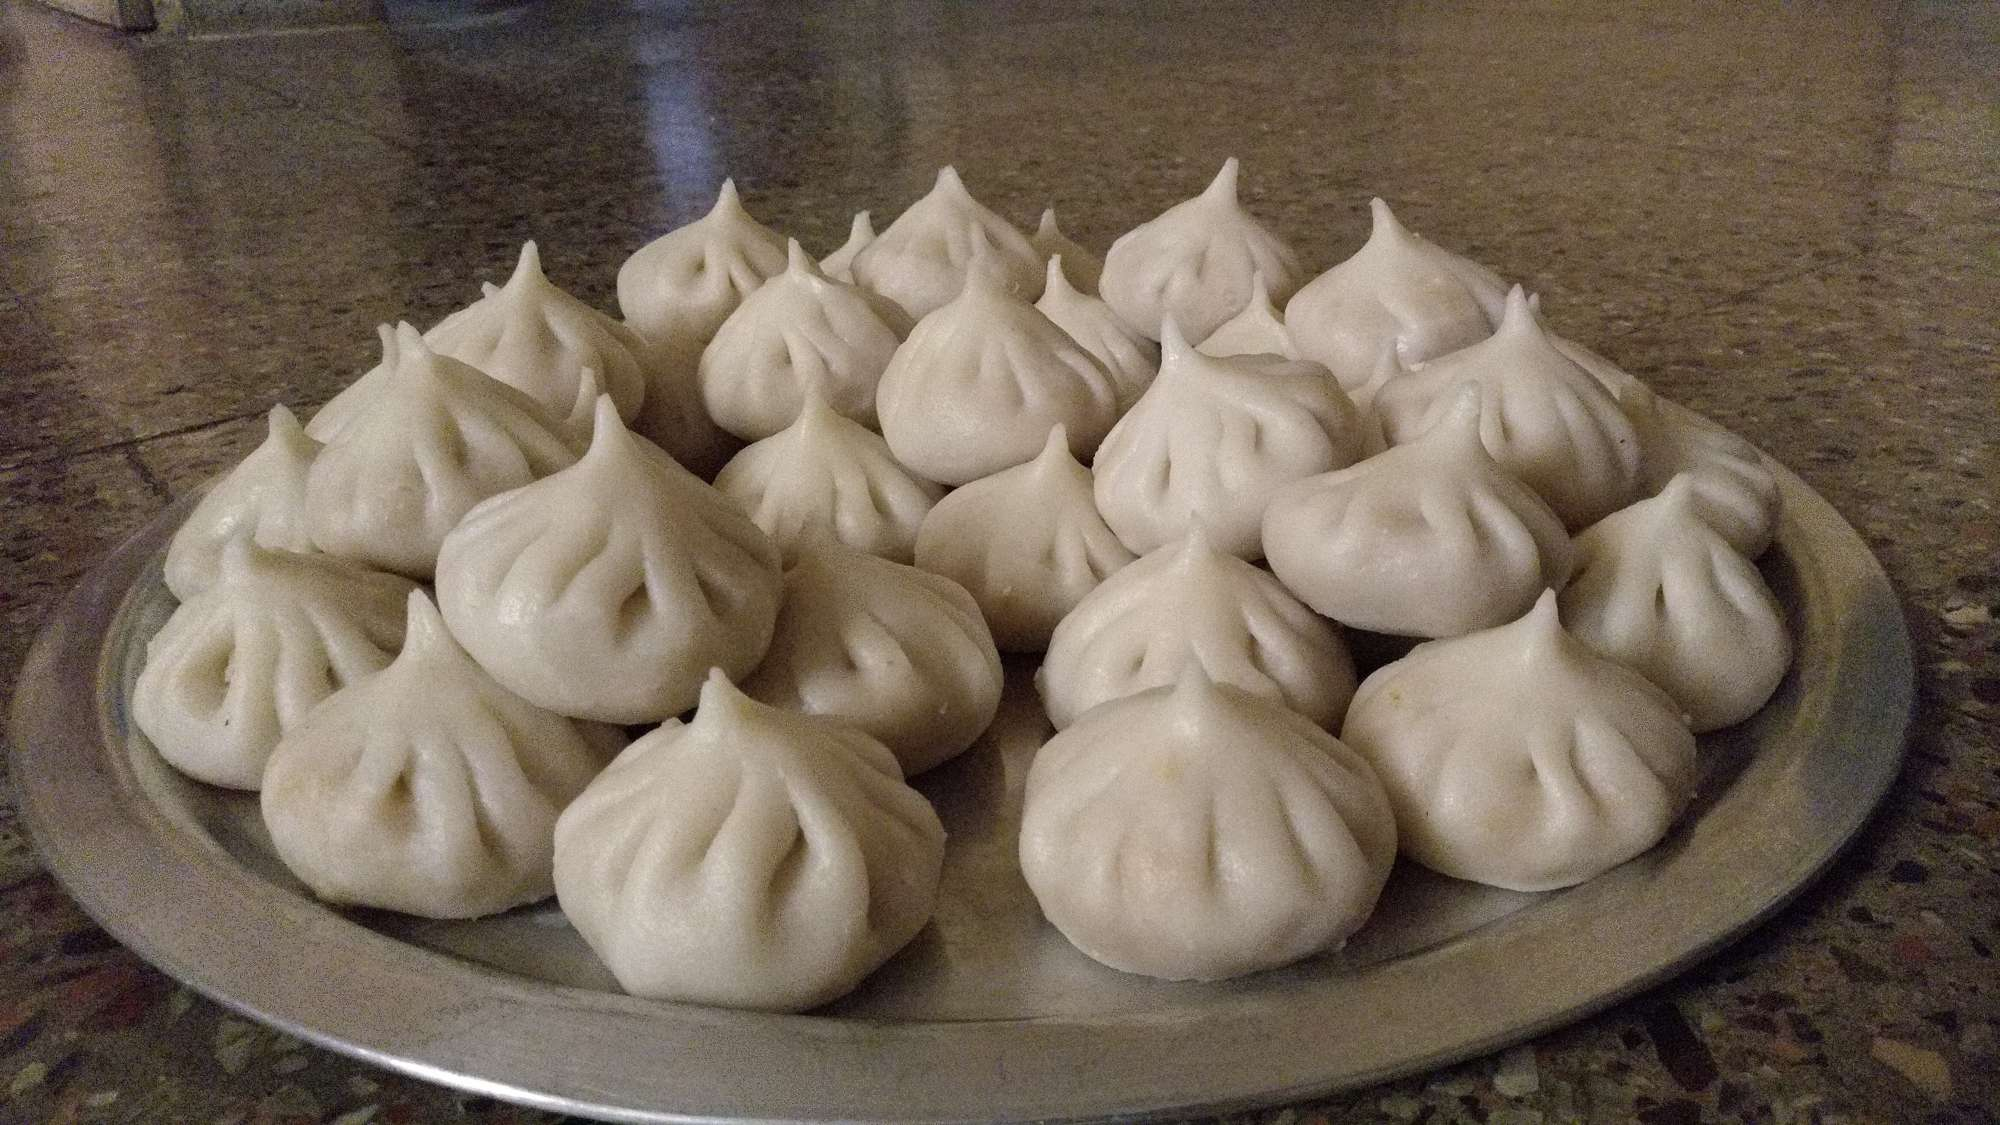modak: (565, 670, 938, 997), (1321, 600, 1727, 875), (1060, 662, 1391, 956), (293, 604, 588, 927), (1236, 393, 1582, 639), (484, 431, 782, 707), (1536, 466, 1819, 707), (1087, 315, 1374, 549), (282, 315, 551, 560), (784, 501, 1022, 772), (174, 549, 430, 793), (1411, 282, 1665, 514), (684, 250, 962, 441), (872, 264, 1104, 479), (909, 433, 1102, 626), (635, 202, 784, 327)
